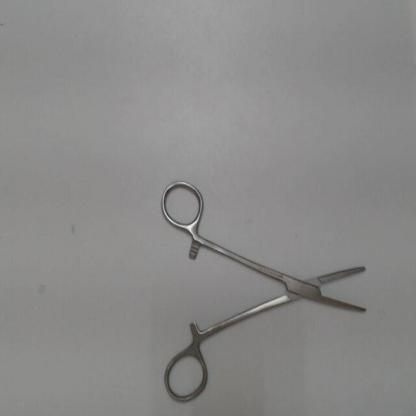Mayo Needle Holder: (156, 173, 378, 408)
